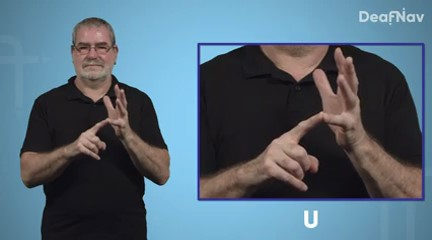U: (250, 46, 368, 194), (67, 82, 134, 165)
